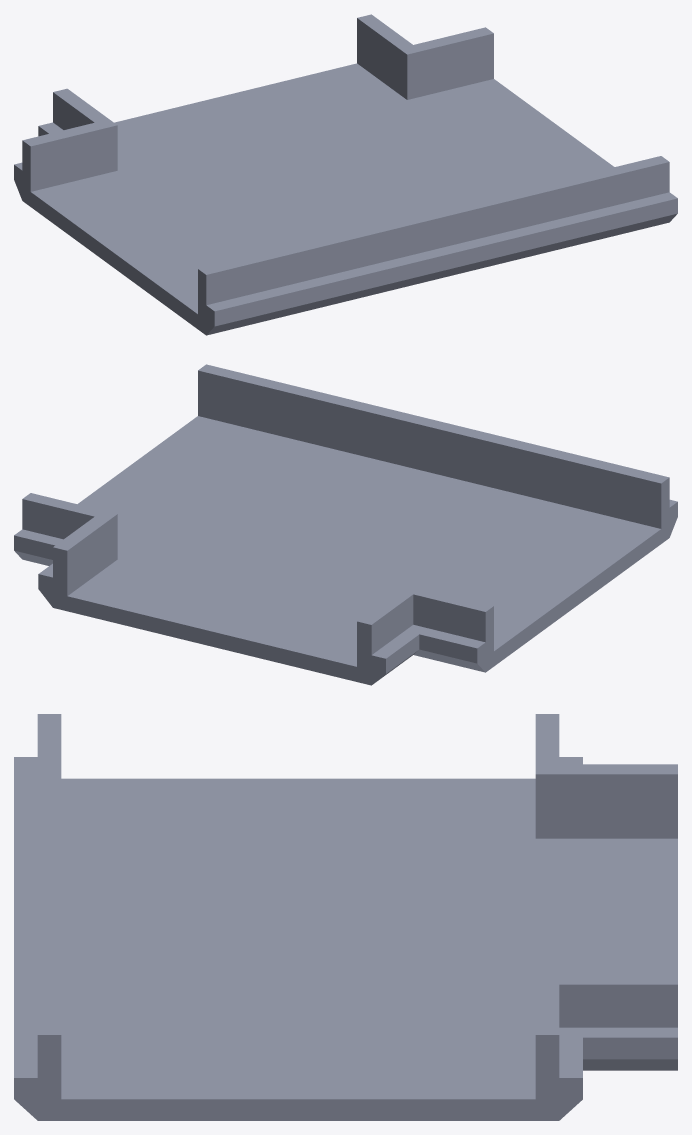
The model's file is building_bridge-fork_v01.gltf.
The picture shows the model from 3 angles, top to bottom: view 1: azimuth 30°, elevation 25°; view 2: azimuth 150°, elevation 25°; view 3: azimuth 270°, elevation 25°; orthographic projection. The views are drawn at different scales.
Visible parts, largest first — view 1: massing; view 2: massing; view 3: massing.
Part boxes in pixels (box(x1,y1,x2,y2)): massing: box(14, 14, 677, 335); massing: box(14, 364, 677, 685); massing: box(14, 714, 677, 1120).
Size of what is drawn, in the model's own units: 16 by 2 by 14.
